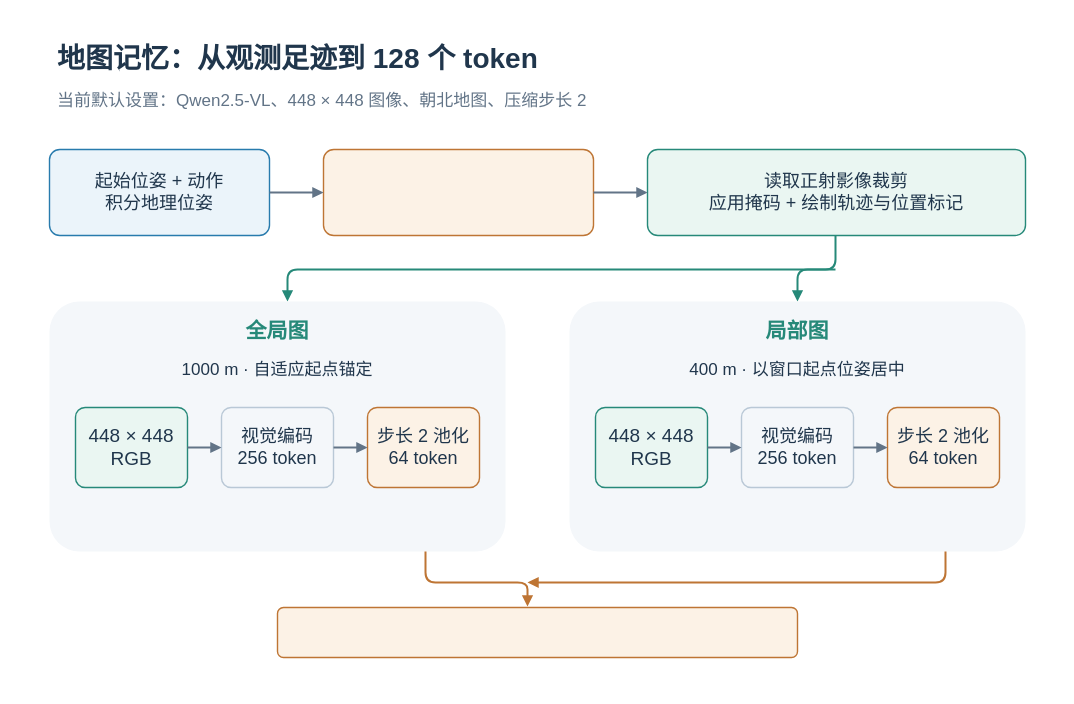
Image size: 1074x704. Some labels were removed from this diagram. The shapes that lost their labels are listed below. From the top down, each one's box as (x1, y1, x2, y2) in pixels, then its label:
(322, 148, 594, 236): 窗口起点 b 之前的相机足迹 求并集 → dilate20 掩码
(276, 606, 798, 658): 全局 64 + 局部 64 → 历史记忆块：128 个 token
